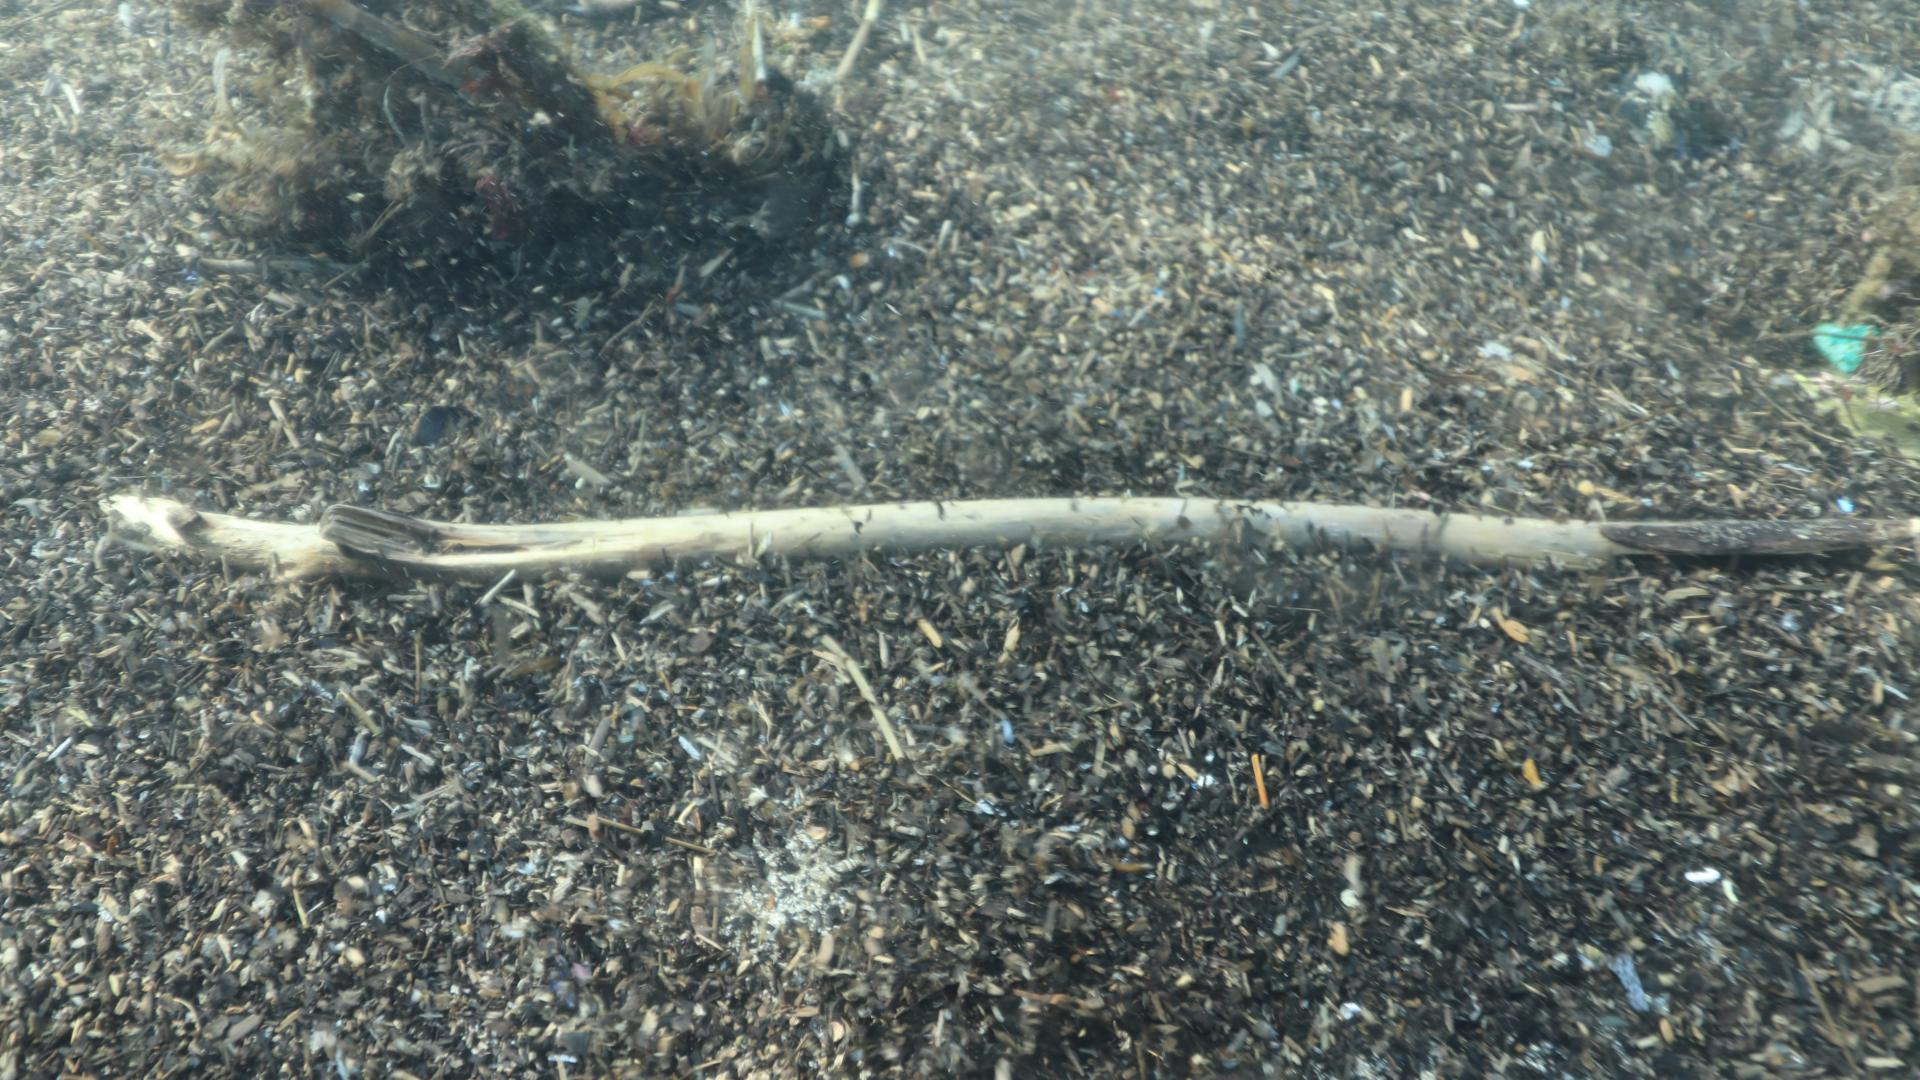wood: (94, 491, 1920, 585)
